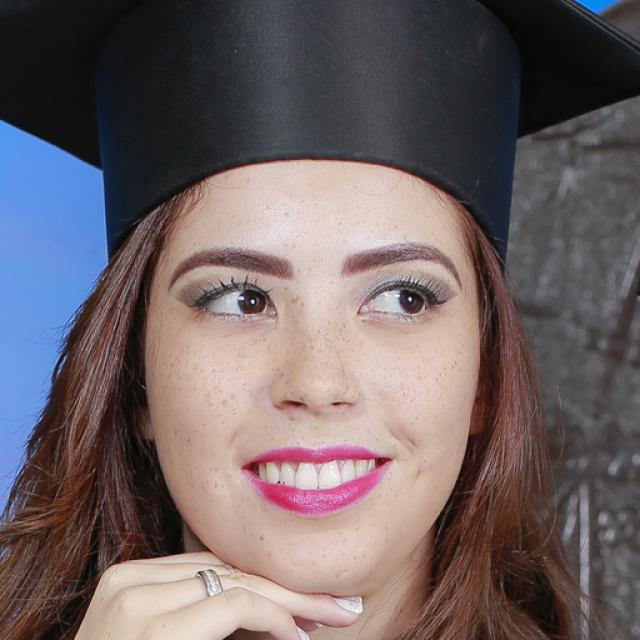Acne: (253, 525, 273, 551)
Pigmentation: (272, 294, 361, 401), (158, 343, 261, 429), (375, 354, 461, 407)
